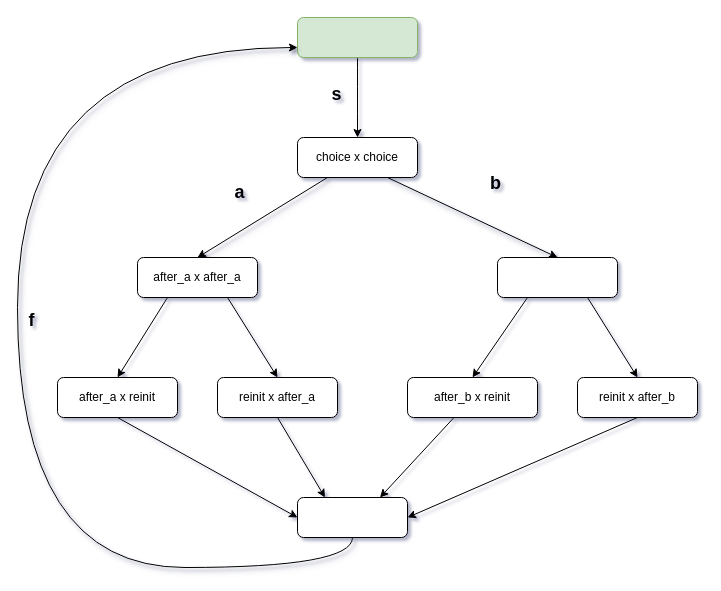
Image size: 721x591. Some labels were removed from this diagram. Here are the shapes that lost their labels. From the top down, the centre of each, then its label:
point (357, 37): idle x idle
point (557, 277): after_b x after_b
point (352, 517): reinit x reinit
